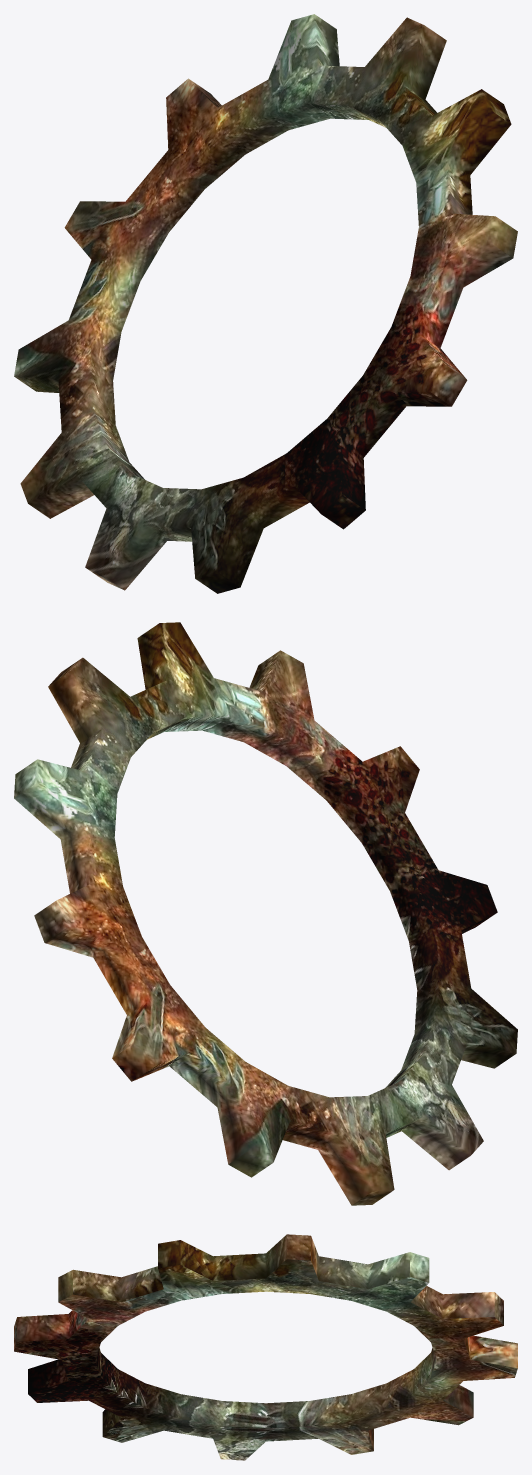
File: Gear3.FBX
3 views of the same model, one above another, from view 1: azimuth 30°, elevation 25°; view 2: azimuth 150°, elevation 25°; view 3: azimuth 270°, elevation 25° (orthographic). The views are drawn at different scales.
Parts seen in each view (by area): view 1: Gear_Sphere_0; view 2: Gear_Sphere_0; view 3: Gear_Sphere_0.
Part boxes in pixels (x1,y1,x2,y2): Gear_Sphere_0: (14,14,517,593); Gear_Sphere_0: (14,622,517,1205); Gear_Sphere_0: (14,1234,517,1460).
Size of the model in its own units: 9.53 by 10.65 by 13.57.
1 material, 1 textured.
